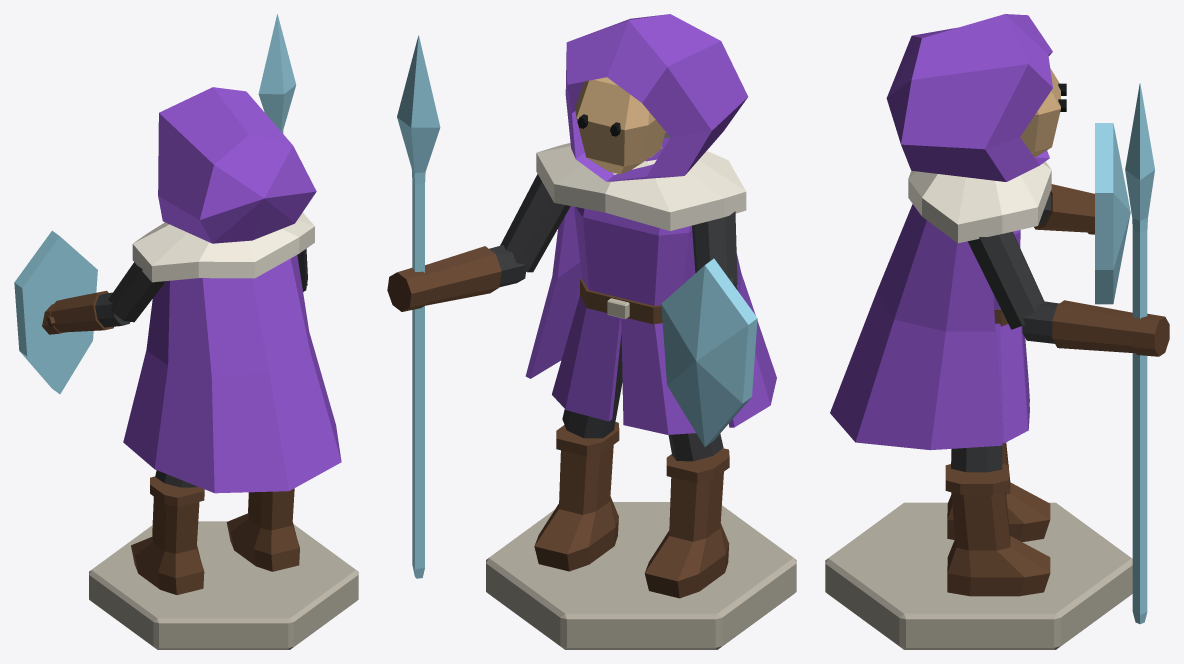
File: human_frostwarden_t3.glb
3 renders of one model, left to right at view 1: azimuth 30°, elevation 25°; view 2: azimuth 150°, elevation 25°; view 3: azimuth 270°, elevation 25°, orthographic. The views are drawn at different scales.
Visible parts, largest first — view 1: Broad_Pointed_Back_Cape, Foundation_Hexagonal_Stone, Pointed_Open_Hood_Shell, frost_small_hexagonal_ice_shield, frost_one_connected_ivory_winter_collar, Boot_-1, Boot_1, frost_entire_continuous_ice_spear, left_upper_sleeve, left_bracer, Boot_Cuff_-1, left_lower_sleeve; view 2: Foundation_Hexagonal_Stone, Pointed_Open_Hood_Shell, frost_small_hexagonal_ice_shield, frost_one_connected_ivory_winter_collar, Continuous_Tunic_Bodice, frost_entire_continuous_ice_spear, Boot_1, Boot_-1, Broad_Pointed_Back_Cape, Angular_Face, Split_Tunic_Front_1, Split_Tunic_Front_-1 (+11 smaller); view 3: Broad_Pointed_Back_Cape, Foundation_Hexagonal_Stone, Pointed_Open_Hood_Shell, frost_entire_continuous_ice_spear, Boot_1, frost_one_connected_ivory_winter_collar, frost_small_hexagonal_ice_shield, right_upper_sleeve, right_bracer, Continuous_Split_Tunic_Skirt, Boot_-1, left_bracer (+5 smaller).
Part boxes in pixels (box(x1,y1,x2,y2)): Broad_Pointed_Back_Cape: box(123, 255, 341, 493); Foundation_Hexagonal_Stone: box(89, 521, 358, 649); Pointed_Open_Hood_Shell: box(158, 87, 316, 243); frost_small_hexagonal_ice_shield: box(14, 230, 97, 394); frost_one_connected_ivory_winter_collar: box(132, 212, 314, 282); Boot_-1: box(131, 496, 204, 594); Boot_1: box(226, 488, 299, 571); frost_entire_continuous_ice_spear: box(258, 14, 296, 133); left_upper_sleeve: box(108, 262, 164, 322); left_bracer: box(50, 290, 113, 332); Boot_Cuff_-1: box(150, 476, 204, 506); left_lower_sleeve: box(95, 292, 130, 327); Foundation_Hexagonal_Stone: box(486, 502, 796, 649); Pointed_Open_Hood_Shell: box(565, 14, 748, 181); frost_small_hexagonal_ice_shield: box(661, 258, 757, 446); frost_one_connected_ivory_winter_collar: box(536, 132, 746, 230); Continuous_Tunic_Bodice: box(574, 206, 695, 305); frost_entire_continuous_ice_spear: box(397, 35, 440, 578); Boot_1: box(534, 445, 618, 571); Boot_-1: box(644, 472, 729, 598); Broad_Pointed_Back_Cape: box(525, 206, 776, 427); Angular_Face: box(575, 77, 665, 174); Split_Tunic_Front_1: box(565, 308, 621, 421); Split_Tunic_Front_-1: box(621, 318, 668, 434); Broad_Pointed_Back_Cape: box(830, 204, 1002, 450); Foundation_Hexagonal_Stone: box(825, 502, 1132, 649); Pointed_Open_Hood_Shell: box(886, 14, 1052, 181); frost_entire_continuous_ice_spear: box(1125, 83, 1154, 624); Boot_1: box(947, 491, 1050, 596); frost_one_connected_ivory_winter_collar: box(908, 161, 1051, 243); frost_small_hexagonal_ice_shield: box(1095, 123, 1130, 304); right_upper_sleeve: box(968, 231, 1044, 329); right_bracer: box(1052, 300, 1136, 353); Continuous_Split_Tunic_Skirt: box(995, 323, 1027, 443); Boot_-1: box(947, 442, 1050, 542); left_bracer: box(1034, 184, 1094, 232).
Size of the model in its own units: 1.17 by 1.92 by 1.03.
